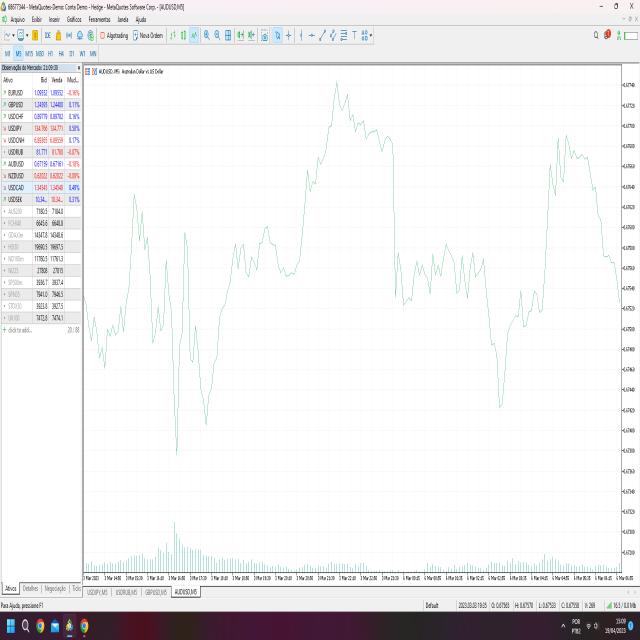bandeira_alta: (202, 204, 289, 462)
bandeira_baixa: (382, 128, 479, 316)
